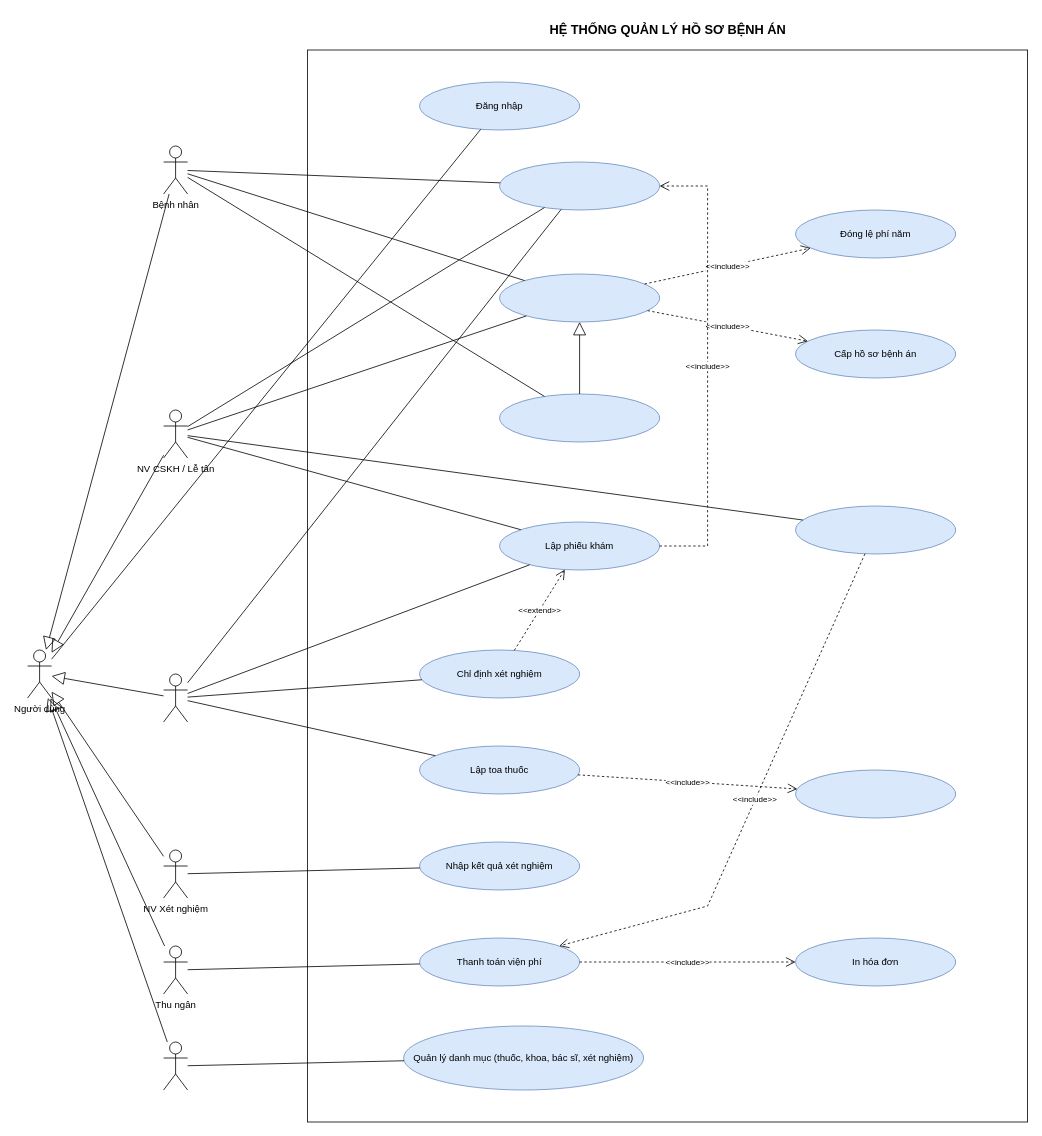
Image size: 1042x1136. Some labels were removed from this diagram. The centre of each missing label's shape, as x and y in pixels:
Bác sĩ: point (175, 697)
Hoàn tất đợt điều trị: point (875, 529)
Kiểm tra thuốc: point (875, 793)
Quản trị viên: point (175, 1065)
Tra cứu hồ sơ bệnh án: point (579, 185)
Đăng ký khám lần đầu: point (579, 297)
Đặt lịch khám định kỳ: point (579, 417)
